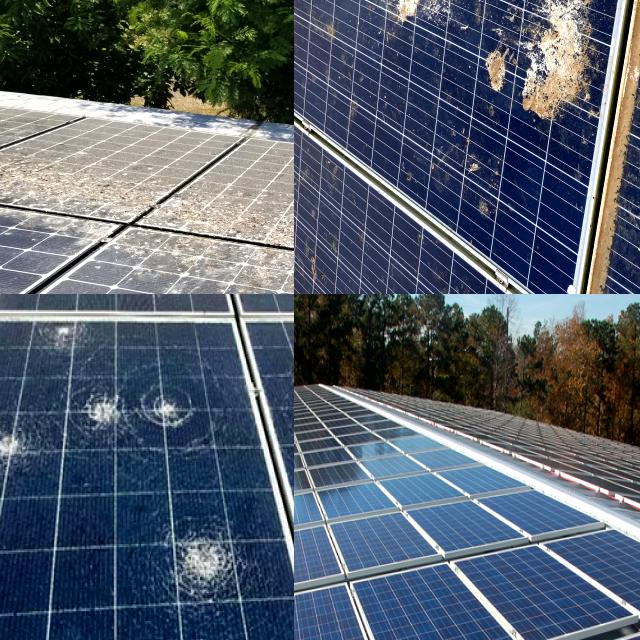bird: (454, 56, 572, 170), (515, 0, 640, 98), (579, 31, 635, 164), (150, 195, 289, 232), (300, 234, 381, 294), (37, 162, 136, 210), (117, 240, 215, 288), (364, 0, 450, 53), (460, 0, 541, 48), (228, 251, 294, 294), (426, 264, 510, 294), (559, 251, 613, 294), (0, 157, 33, 194)
crack: (323, 541, 521, 640), (294, 526, 378, 614), (294, 563, 386, 640)
hotspot: (148, 492, 249, 607), (68, 369, 149, 432), (140, 376, 210, 442), (197, 294, 294, 334), (0, 414, 46, 483), (38, 314, 102, 362)
